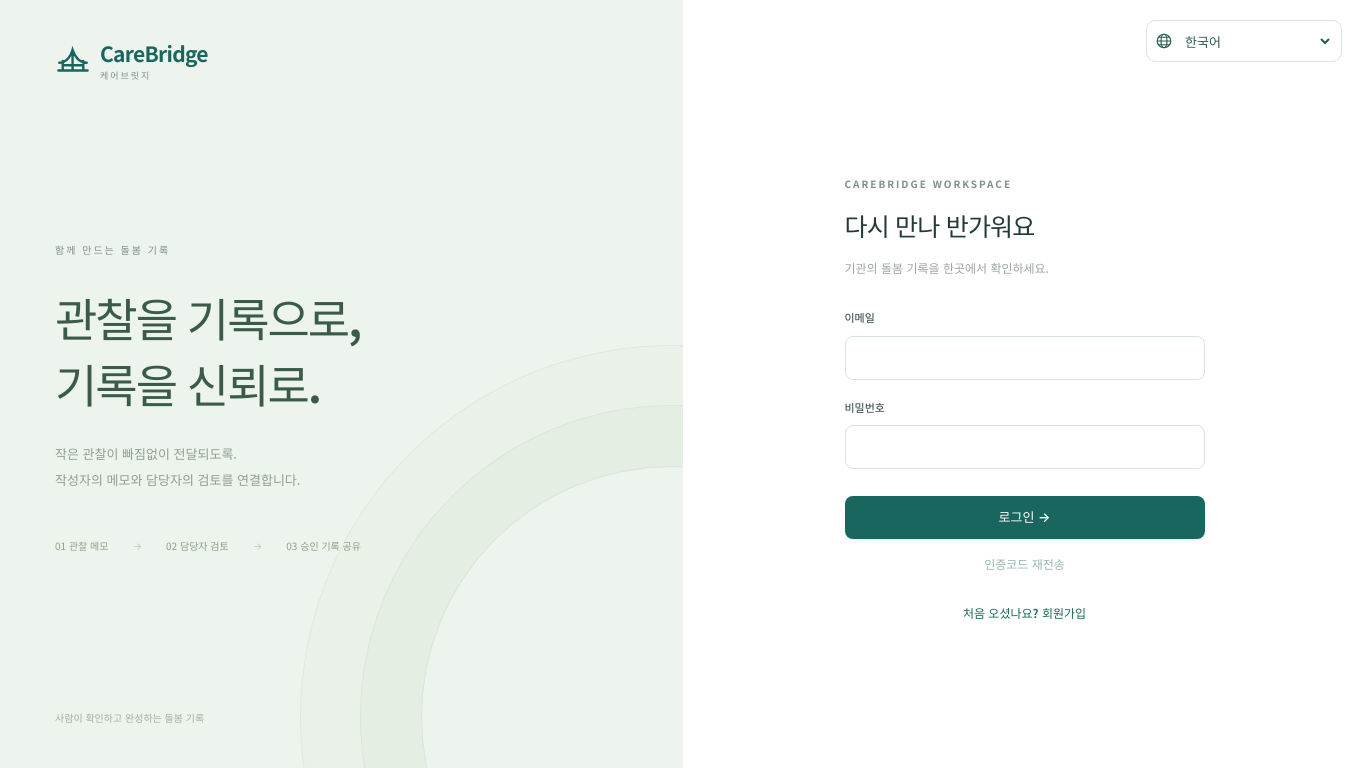
Scenario: authenticated admin sees role selection only in settings without a public developer banner
The image size is (1366, 768).
Step 1. Type "admin" into the field labelled "이메일" → point(1024, 358), box [844,336,1204,380]
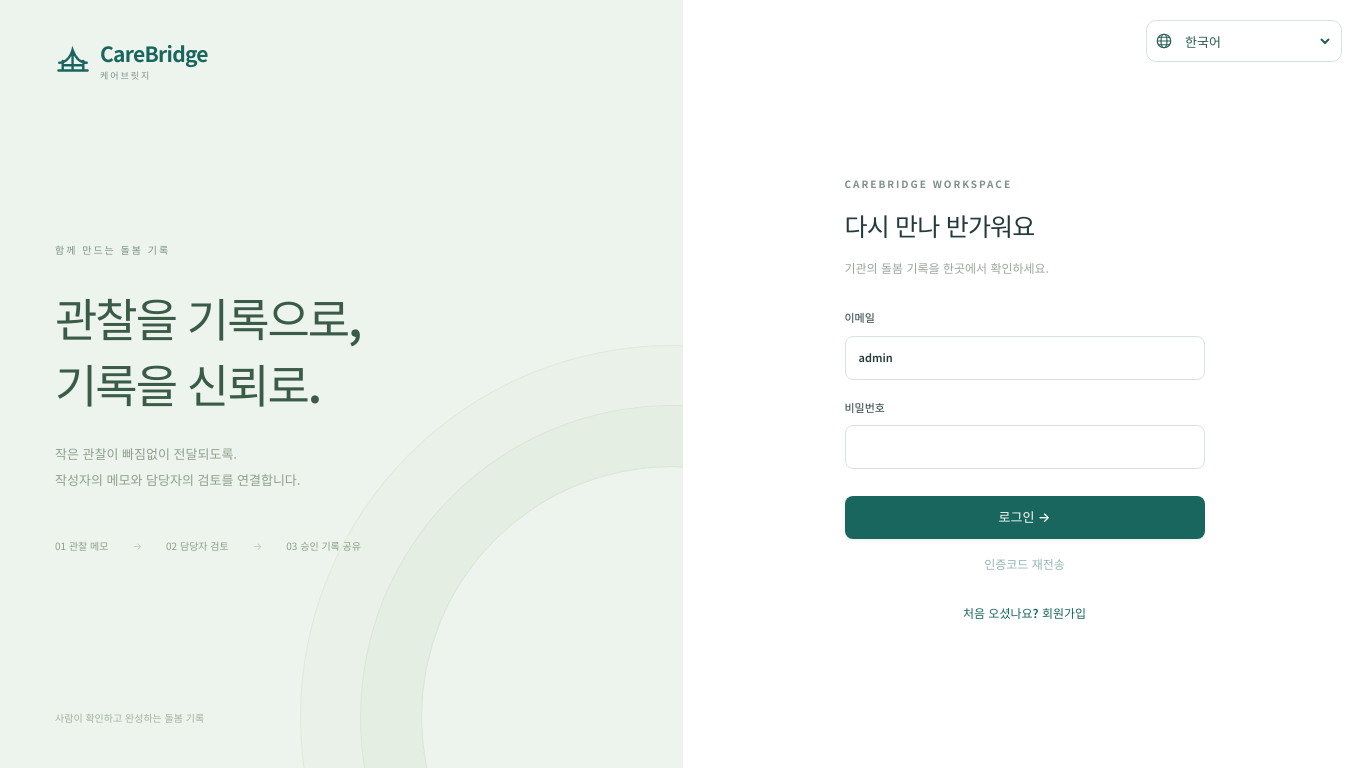
Step 2. Type "demo" into the password field labelled "비밀번호" → point(1024, 447), box [844,425,1204,469]
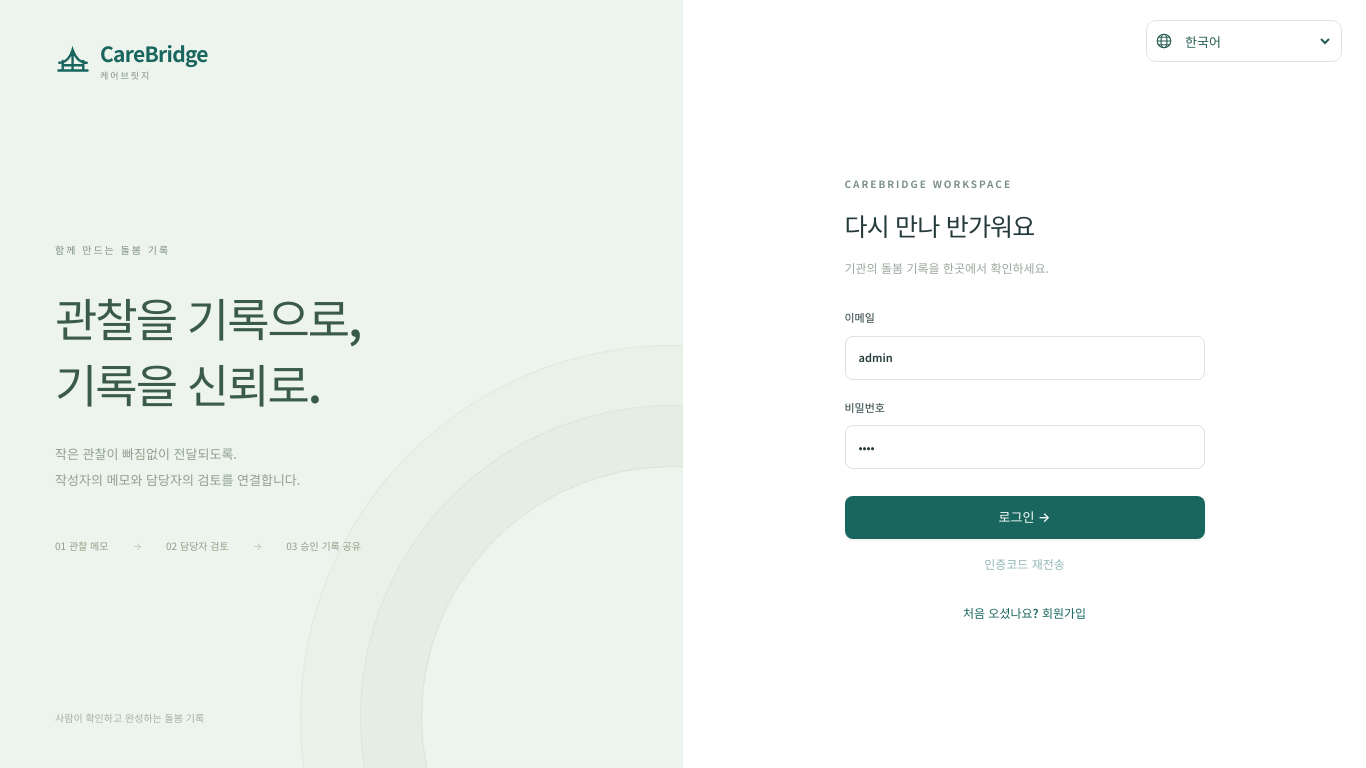
Step 3. Click the button "로그인 →" → point(1024, 518), box [844,496,1204,539]
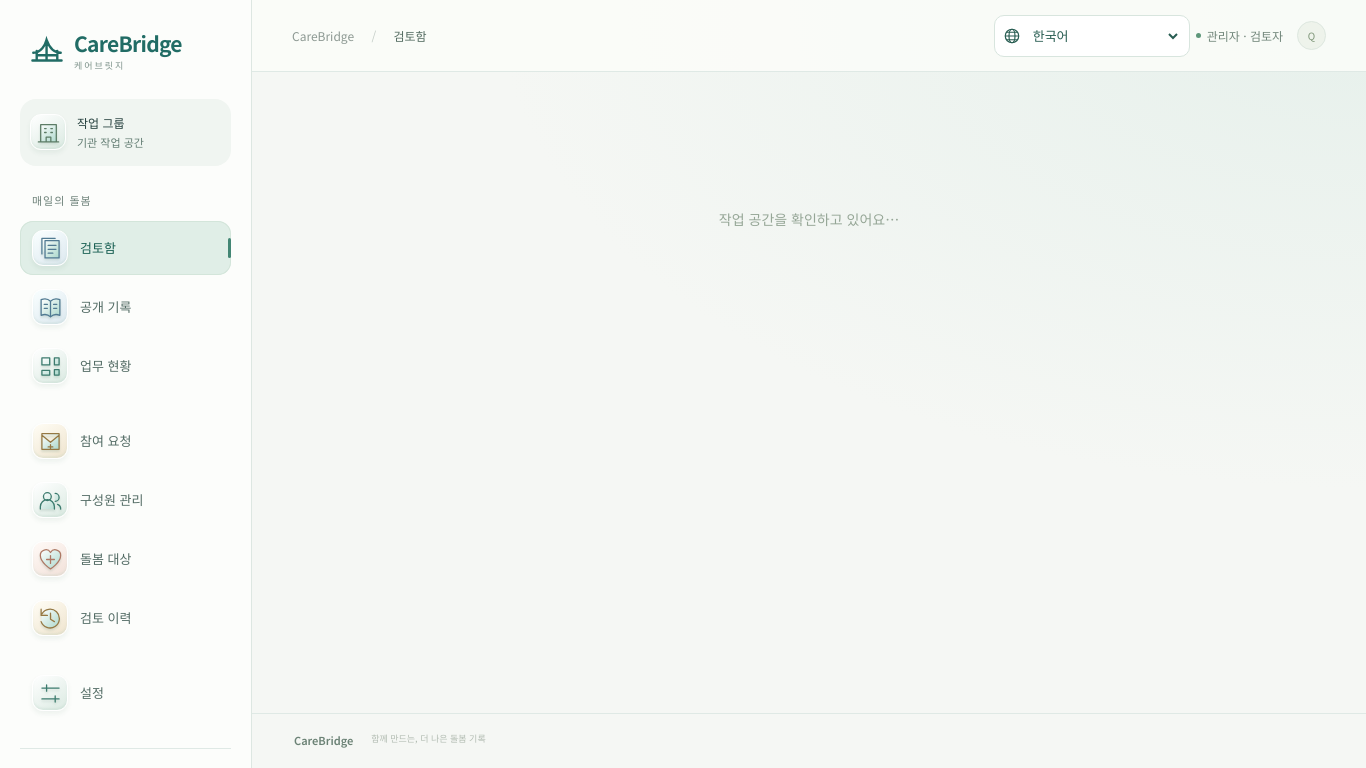
Check: the field labelled "사용 역할" is not shown
Check: the navigation bar named "주 메뉴" is shown, box [20,221,231,720]
Step 4. Click the button "설정" → point(126, 693), box [20,666,231,720]
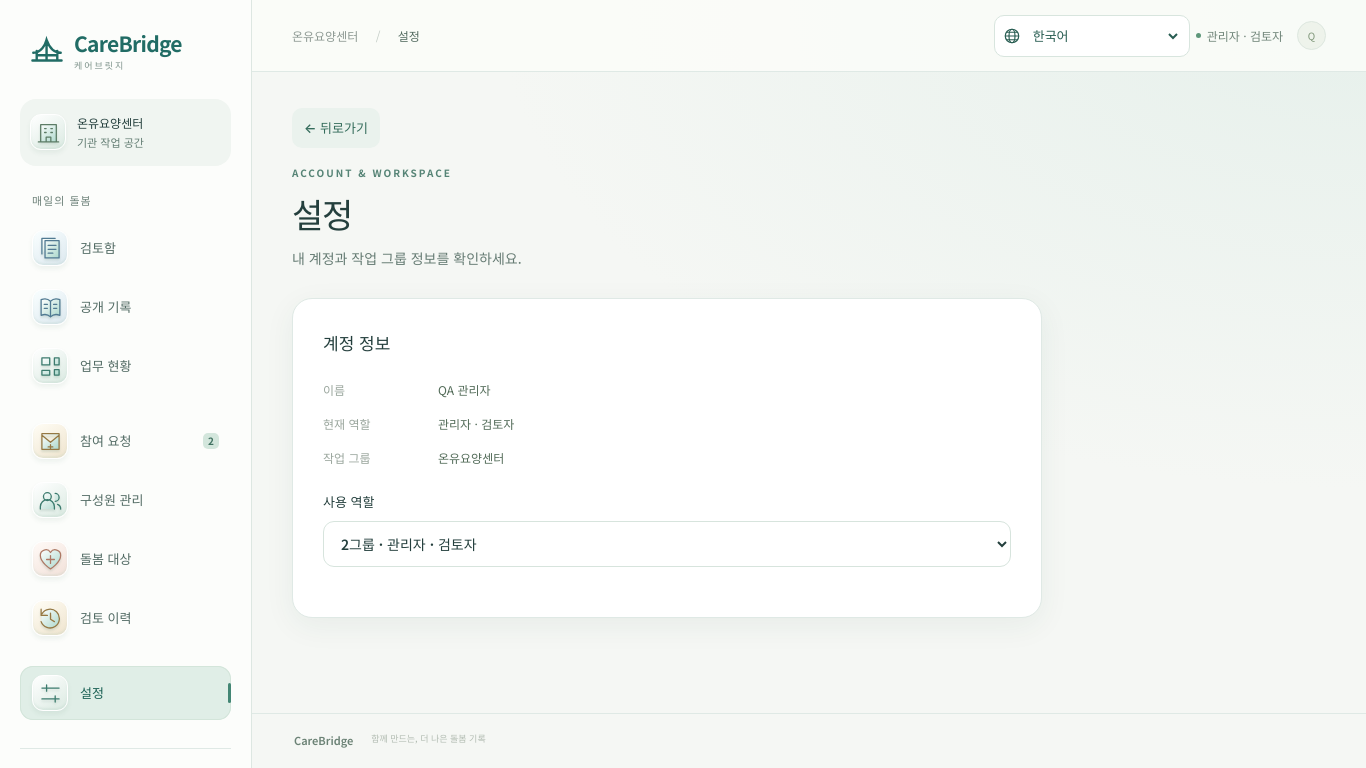
Step 5. Select "3그룹 · 기록 열람자" in the dropdown labelled "사용 역할" → point(667, 544), box [323,521,1011,567]
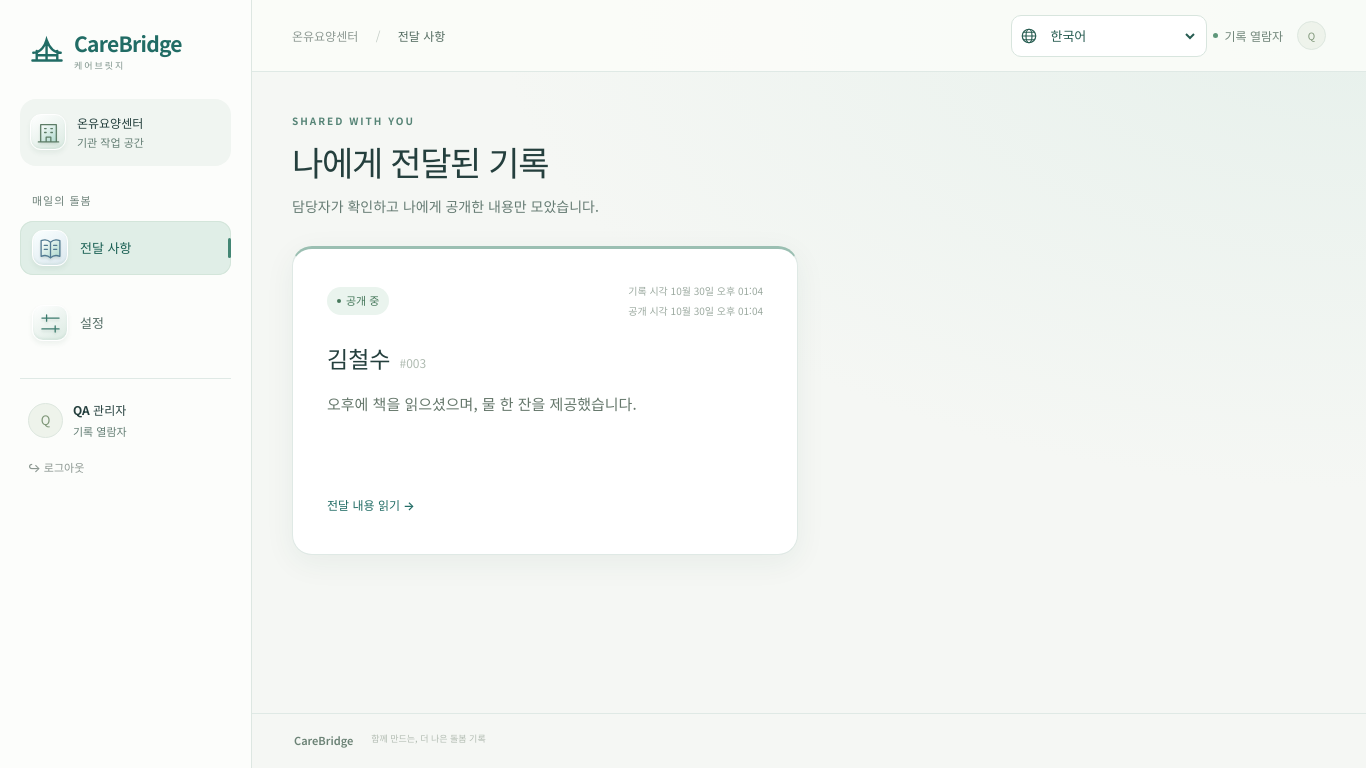
Check: the heading "나에게 전달된 기록" is shown, box [292,137,548,186]
